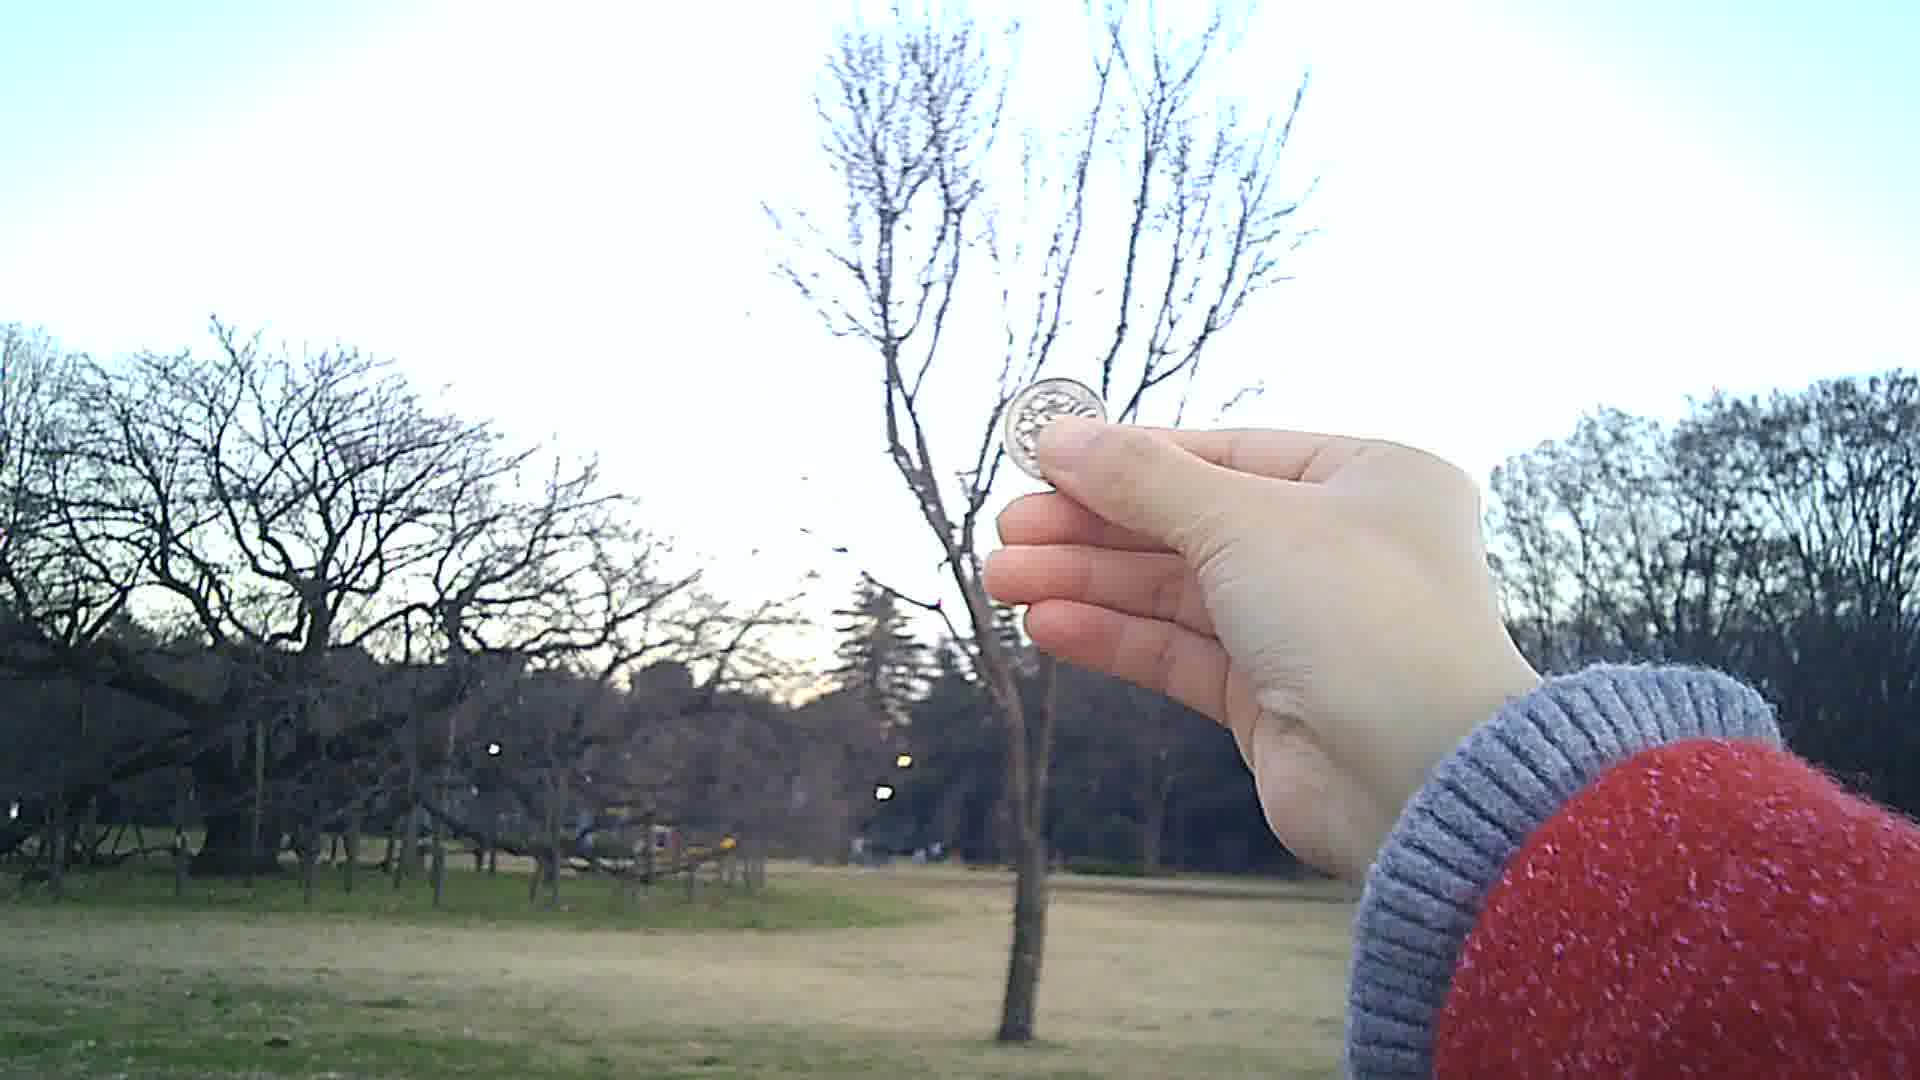100 Yen: (1002, 372, 1109, 475)
